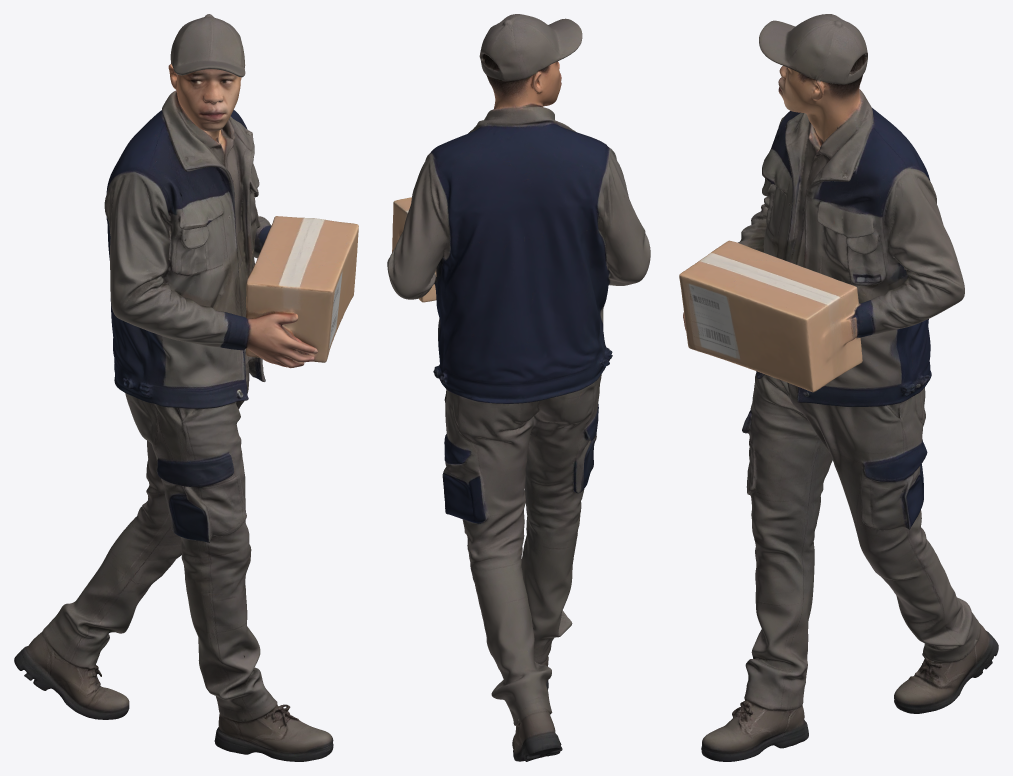
The picture shows the model from 3 angles, left to right: view 1: azimuth 30°, elevation 25°; view 2: azimuth 150°, elevation 25°; view 3: azimuth 270°, elevation 25°; orthographic projection. The views are drawn at different scales.
Parts seen in each view (by area): view 1: Object_5, Object_7, Object_6; view 2: Object_6, Object_5, Object_7; view 3: Object_5, Object_6, Object_7.
Boxes of the visible parts, bbox=[...] form: Object_5: bbox=[82, 14, 353, 761]; Object_7: bbox=[110, 57, 355, 758]; Object_6: bbox=[14, 17, 358, 719]; Object_6: bbox=[387, 20, 639, 761]; Object_5: bbox=[411, 14, 648, 659]; Object_7: bbox=[521, 18, 650, 689]; Object_5: bbox=[679, 14, 951, 761]; Object_6: bbox=[746, 14, 998, 713]; Object_7: bbox=[727, 21, 821, 756].
Size of the model in its own units: 0.7153 by 1.9 by 0.7662.
Materials: 1 (1 with a texture image).
